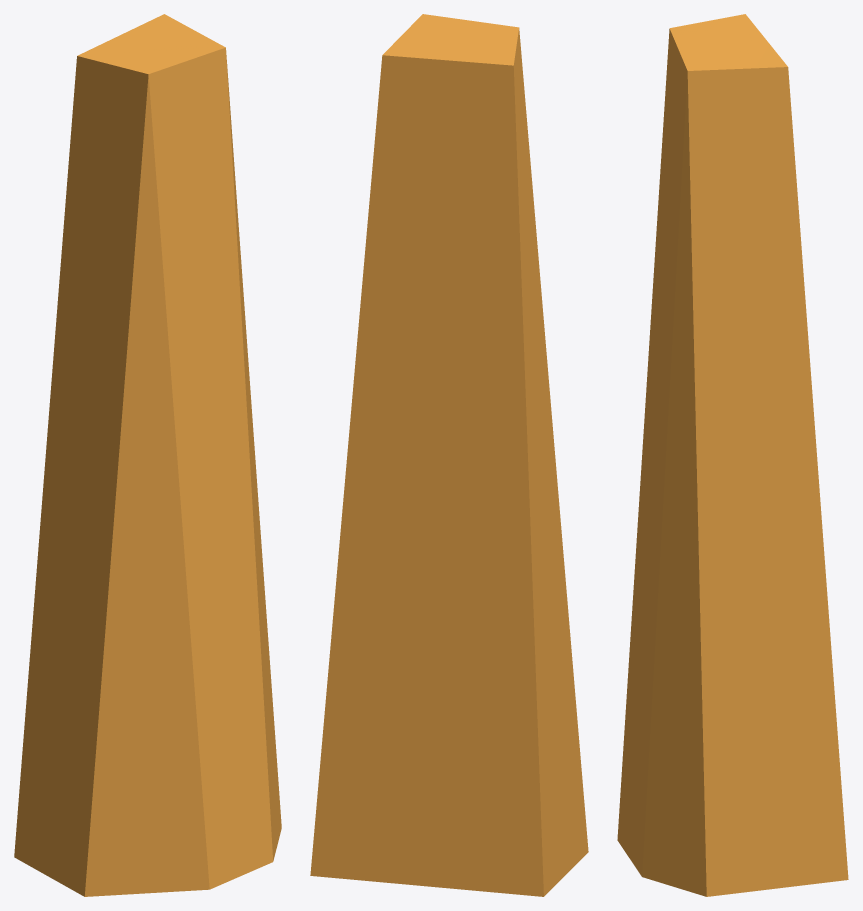
The picture shows the model from 3 angles, left to right: view 1: azimuth 30°, elevation 25°; view 2: azimuth 150°, elevation 25°; view 3: azimuth 270°, elevation 25°; orthographic projection.
Parts seen in each view (by area): view 1: Cube.006; view 2: Cube.006; view 3: Cube.006.
Boxes of the visible parts, x1,y1,x2,y2 form: Cube.006: (14,14,281,896); Cube.006: (310,14,588,896); Cube.006: (617,14,848,896).
Size of the model in its own units: 0.1668 by 0.5537 by 0.1458.
